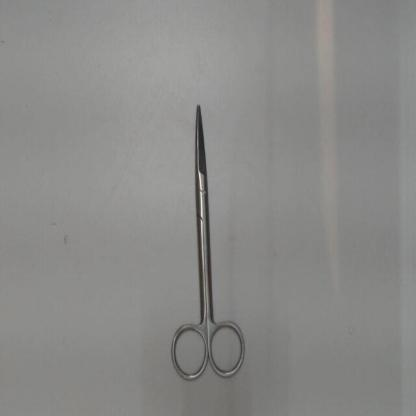Curved Mayo Scissors: (168, 98, 250, 386)
